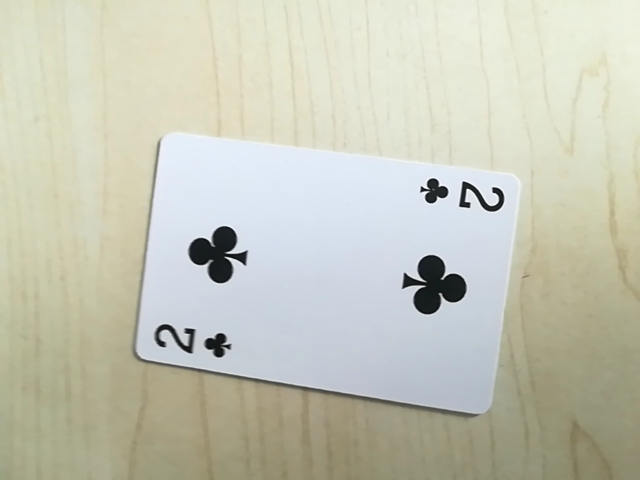mh 2: (416, 175, 509, 219), (149, 319, 237, 362)
